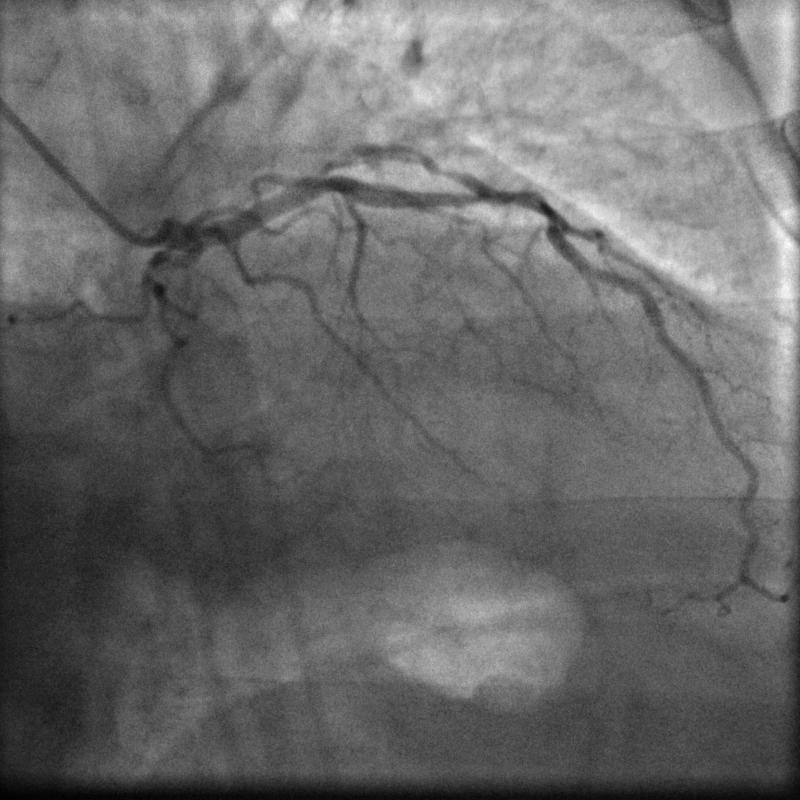Stenosis: (485, 183, 564, 225)
